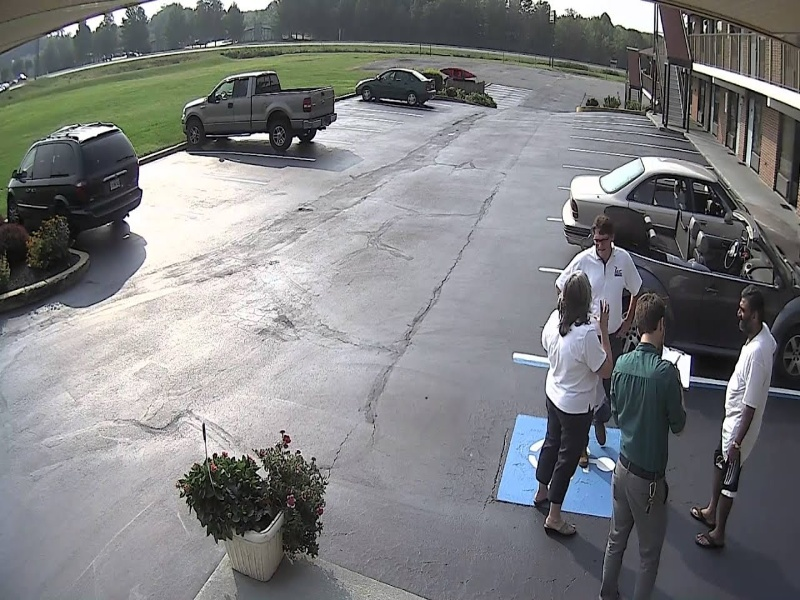person: (681, 279, 785, 558), (606, 288, 693, 597), (552, 213, 648, 470), (532, 266, 618, 543)
